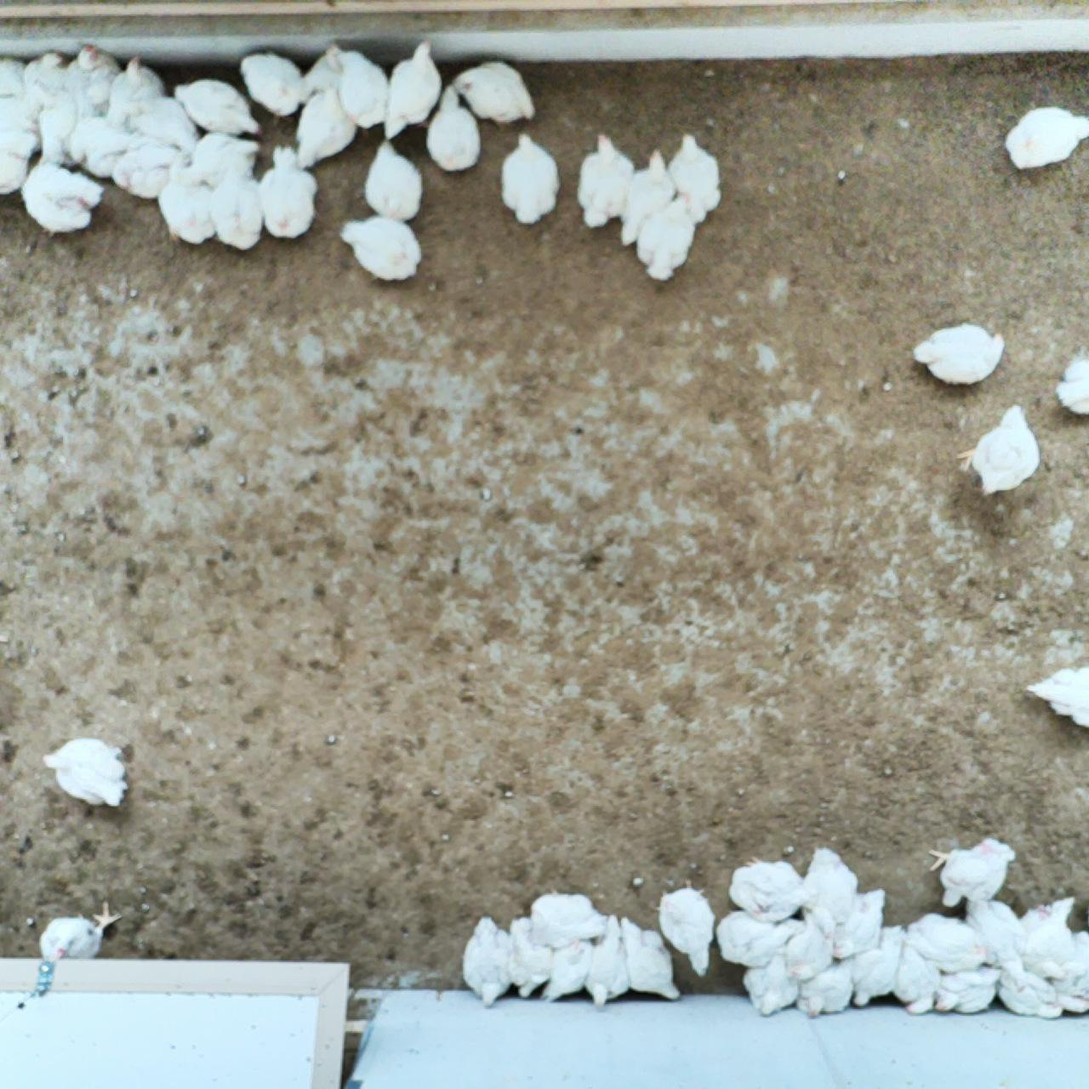chicken: (958, 401, 1044, 497), (37, 735, 132, 818), (649, 876, 719, 980), (911, 316, 1008, 390), (21, 159, 104, 241), (614, 146, 679, 249), (998, 100, 1089, 172), (928, 832, 1014, 908), (379, 36, 440, 143), (449, 55, 539, 127), (498, 131, 564, 229), (572, 130, 636, 228), (257, 143, 320, 242), (172, 76, 268, 140), (419, 81, 485, 174), (962, 889, 1030, 979), (618, 913, 684, 1004), (712, 907, 807, 970), (34, 897, 123, 964), (636, 190, 699, 284), (341, 212, 426, 281), (804, 844, 866, 935), (362, 138, 426, 223), (902, 910, 988, 973), (728, 852, 807, 920), (158, 160, 219, 248), (460, 910, 515, 1006), (331, 46, 393, 131), (667, 131, 726, 220), (177, 132, 264, 190), (212, 157, 265, 252), (1022, 655, 1089, 730), (578, 912, 629, 1010), (525, 886, 608, 946), (498, 913, 555, 999), (852, 919, 905, 1011), (894, 932, 946, 1018), (64, 40, 120, 118), (533, 932, 597, 1000), (795, 955, 858, 1024), (834, 885, 891, 961), (236, 52, 305, 114), (112, 139, 184, 198), (106, 53, 169, 119), (134, 94, 201, 155), (740, 952, 801, 1019), (993, 962, 1063, 1020), (67, 115, 129, 180), (1023, 895, 1080, 965), (784, 908, 836, 984), (933, 964, 1005, 1015), (32, 94, 77, 168), (290, 42, 349, 96), (20, 44, 67, 111), (1054, 349, 1089, 422), (0, 133, 38, 200), (1057, 959, 1089, 1017), (0, 95, 42, 138), (0, 57, 24, 92)
